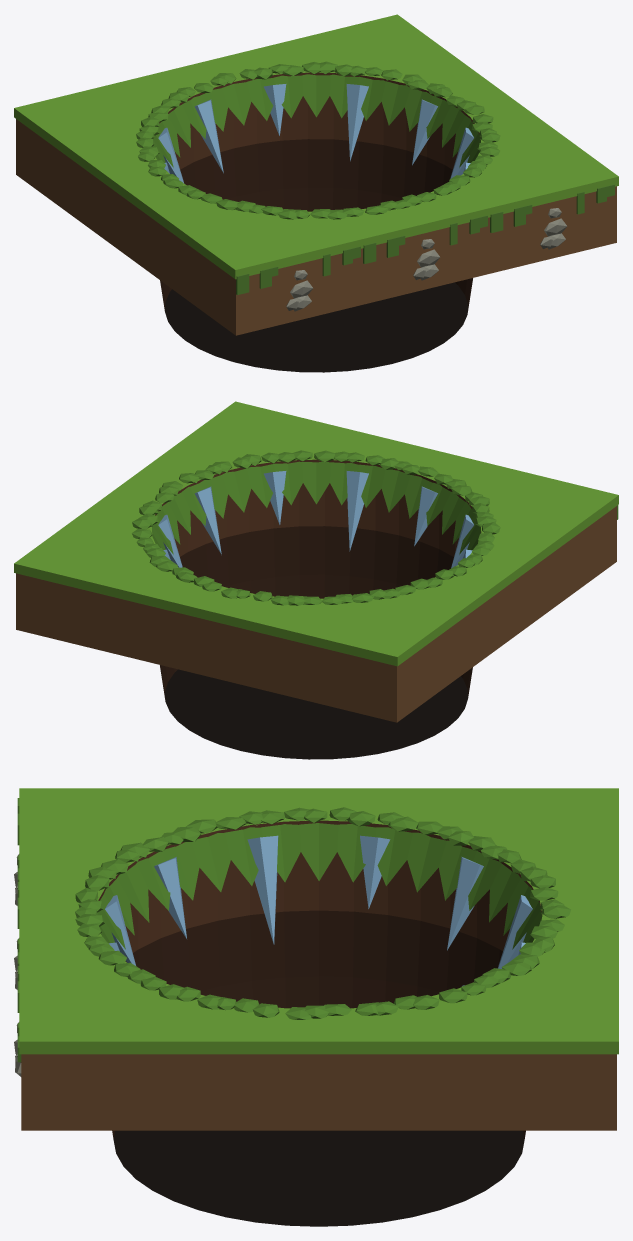
File: pit_tile.glb
The picture shows the model from 3 angles, top to bottom: view 1: azimuth 30°, elevation 25°; view 2: azimuth 150°, elevation 25°; view 3: azimuth 270°, elevation 25°; orthographic projection. The views are drawn at different scales.
Visible parts, largest first — view 1: grass-col, dirt-col, pit_tube, grass_fringe, rim_leaves, teeth, moss, stone; view 2: grass-col, dirt-col, pit_tube, grass_fringe, rim_leaves, teeth; view 3: grass-col, dirt-col, pit_tube, grass_fringe, rim_leaves, teeth, moss.
Part boxes in pixels (bbox=[...]): grass-col: bbox=[14, 14, 618, 279]; dirt-col: bbox=[16, 96, 616, 335]; pit_tube: bbox=[160, 139, 472, 372]; grass_fringe: bbox=[152, 74, 480, 167]; rim_leaves: bbox=[136, 61, 500, 219]; teeth: bbox=[158, 84, 473, 183]; moss: bbox=[236, 184, 614, 294]; stone: bbox=[286, 208, 567, 311]; grass-col: bbox=[14, 401, 618, 666]; dirt-col: bbox=[16, 483, 616, 722]; pit_tube: bbox=[160, 526, 472, 759]; grass_fringe: bbox=[152, 461, 480, 554]; rim_leaves: bbox=[132, 450, 500, 605]; teeth: bbox=[158, 471, 473, 568]; grass-col: bbox=[19, 788, 618, 1054]; dirt-col: bbox=[21, 852, 616, 1130]; pit_tube: bbox=[112, 910, 525, 1226]; grass_fringe: bbox=[97, 823, 542, 949]; rim_leaves: bbox=[75, 807, 570, 1019]; teeth: bbox=[105, 835, 532, 986]; moss: bbox=[17, 798, 21, 1062].
Size of the model in its own units: 12.08 by 5.15 by 12.19.
